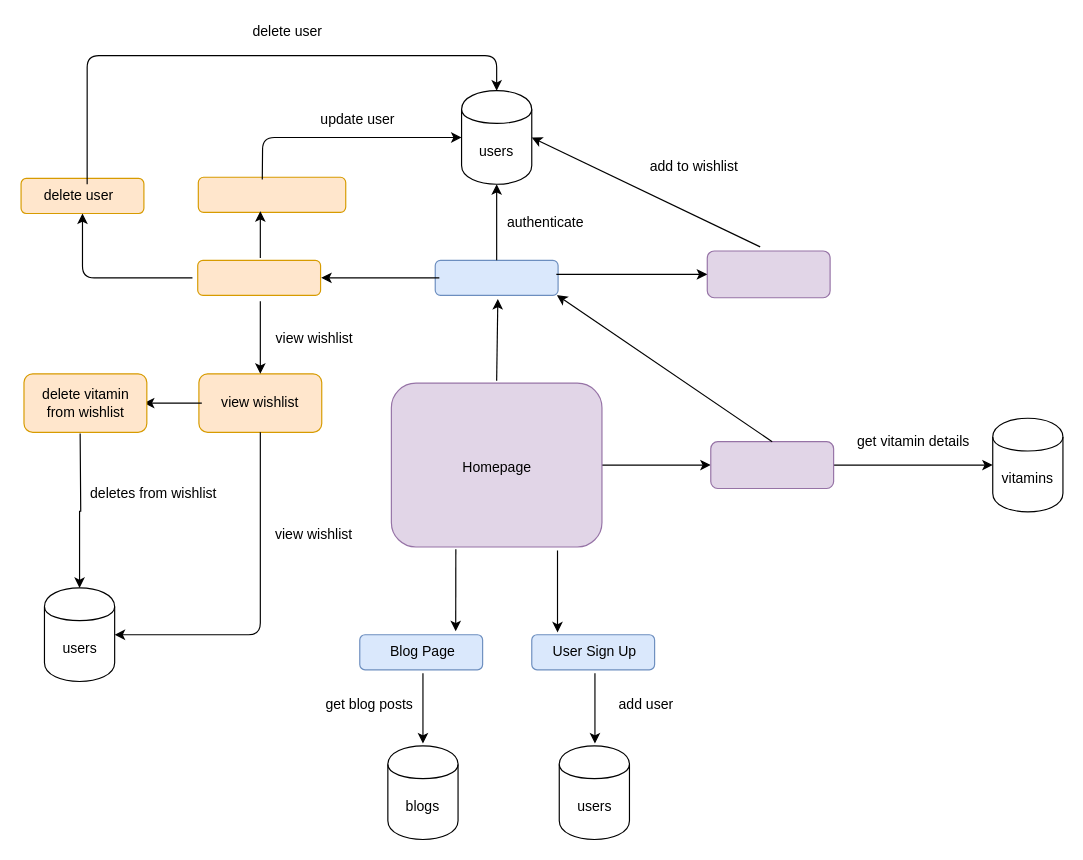
The diagram is 1083 pixels wide and 860 high, and some of its shapes have lost their labels. Each missing label, with the centre of its shape:
"add vitamin to wishlist" belongs at (x=768, y=274).
"search function (Homepage)" belongs at (x=772, y=464).
"update user details" belongs at (x=271, y=194).
"User Dashboard" belongs at (x=259, y=277).
"User Log In" belongs at (x=496, y=277).
